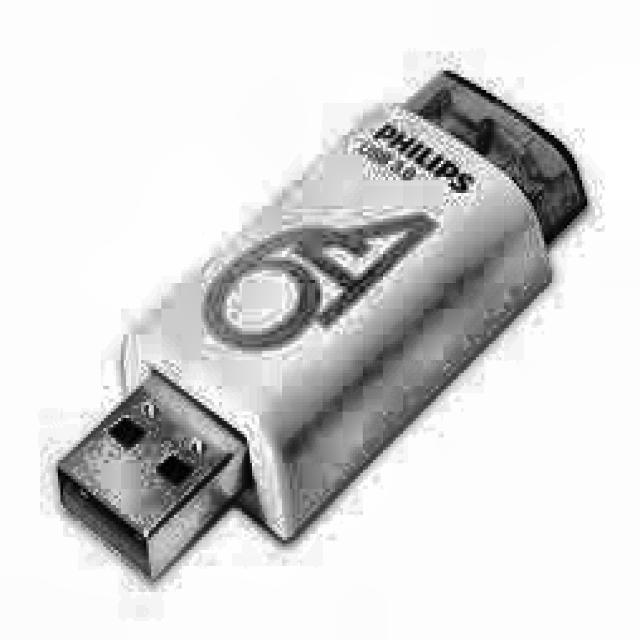Mug: (53, 62, 610, 589)
